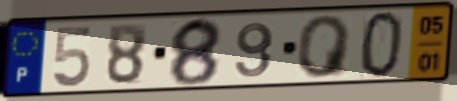0: (357, 9, 406, 80)
5: (50, 23, 94, 89)
8: (168, 15, 225, 88), (105, 22, 149, 87)
9: (232, 20, 276, 79)
Q: (296, 13, 355, 81)
